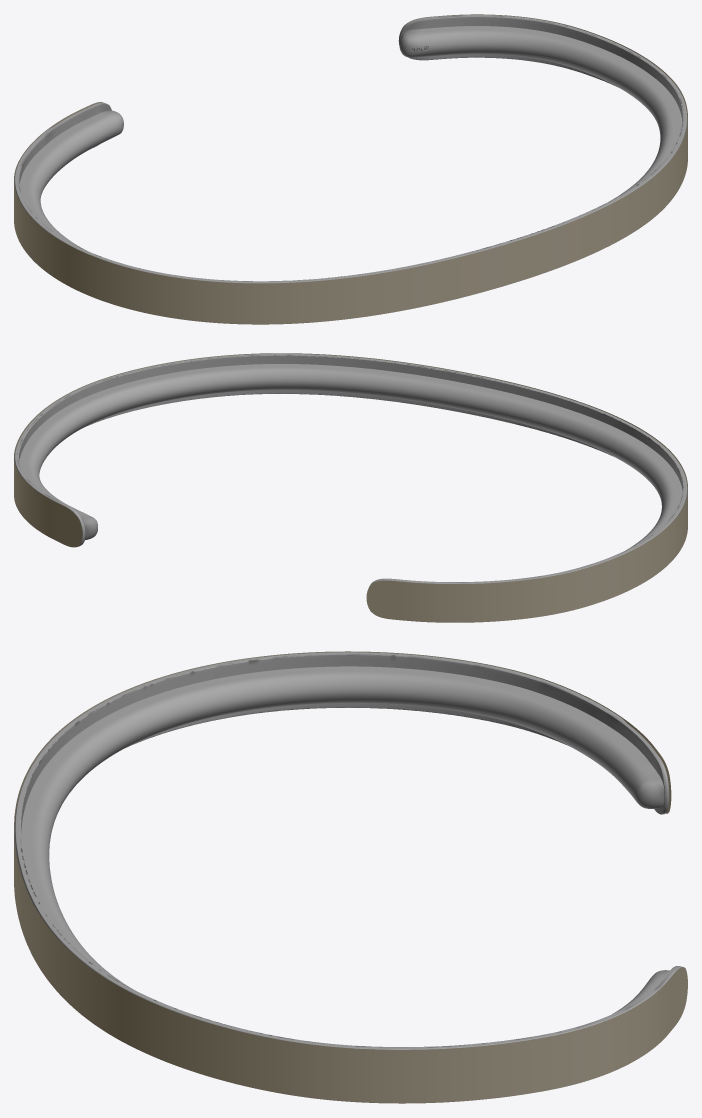
File: EX-bold-silver.glb
The picture shows the model from 3 angles, top to bottom: view 1: azimuth 30°, elevation 25°; view 2: azimuth 150°, elevation 25°; view 3: azimuth 270°, elevation 25°; orthographic projection. The views are drawn at different scales.
Parts seen in each view (by area): view 1: EX-omote.005, EX-body.005; view 2: EX-body.005, EX-omote.005; view 3: EX-body.005, EX-omote.005.
Boxes of the visible parts, x1,y1,x2,y2 form: EX-omote.005: (14,14,687,324); EX-body.005: (14,15,687,283); EX-body.005: (14,353,687,584); EX-omote.005: (14,353,687,622); EX-body.005: (14,652,682,1049); EX-omote.005: (14,651,687,1103).
Bounding box in the file's own units: 3.45 × 0.2162 × 2.47.
Materials: 2 (2 with a texture image).
